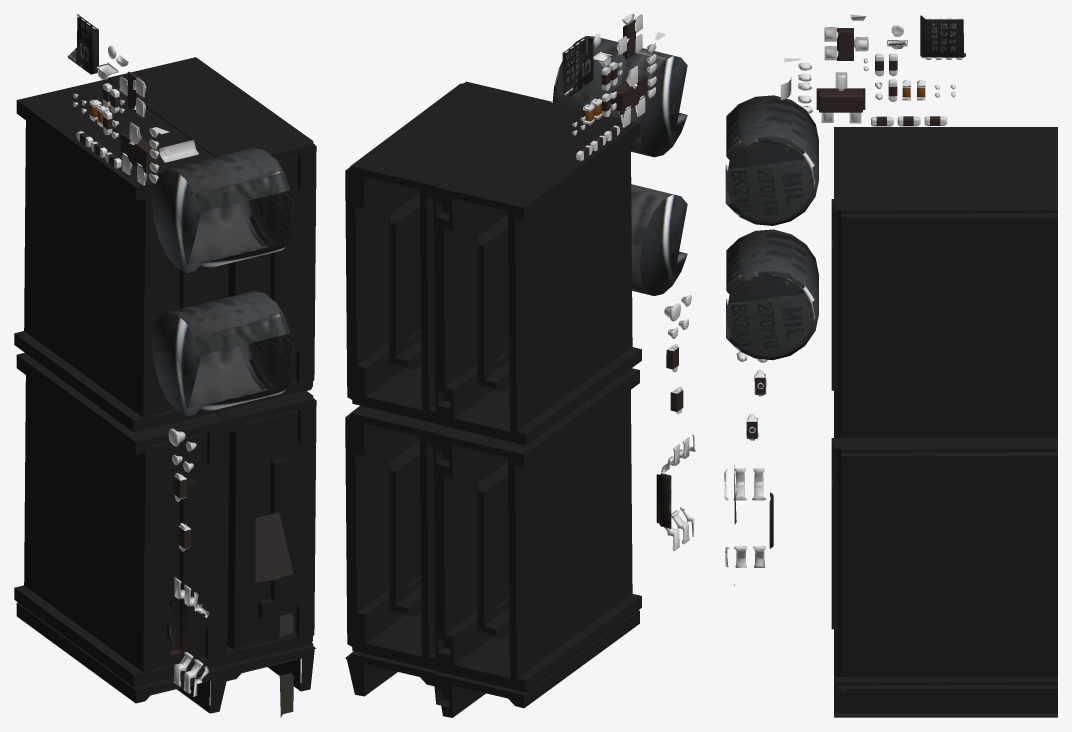
The model's file is sata.glb.
3 renders of one model, left to right at view 1: azimuth 30°, elevation 25°; view 2: azimuth 150°, elevation 25°; view 3: azimuth 270°, elevation 25°, orthographic. The views are drawn at different scales.
Parts seen in each view (by area): view 1: Source origin; view 2: Source origin; view 3: Source origin.
Part boxes in pixels (<box>): Source origin: <box>14,14,316,717</box>; Source origin: <box>345,14,695,717</box>; Source origin: <box>724,14,1057,717</box>.
Bounding box in the file's own units: 0.1337 × 0.4518 × 0.219.
Materials: 8 (5 with a texture image).
